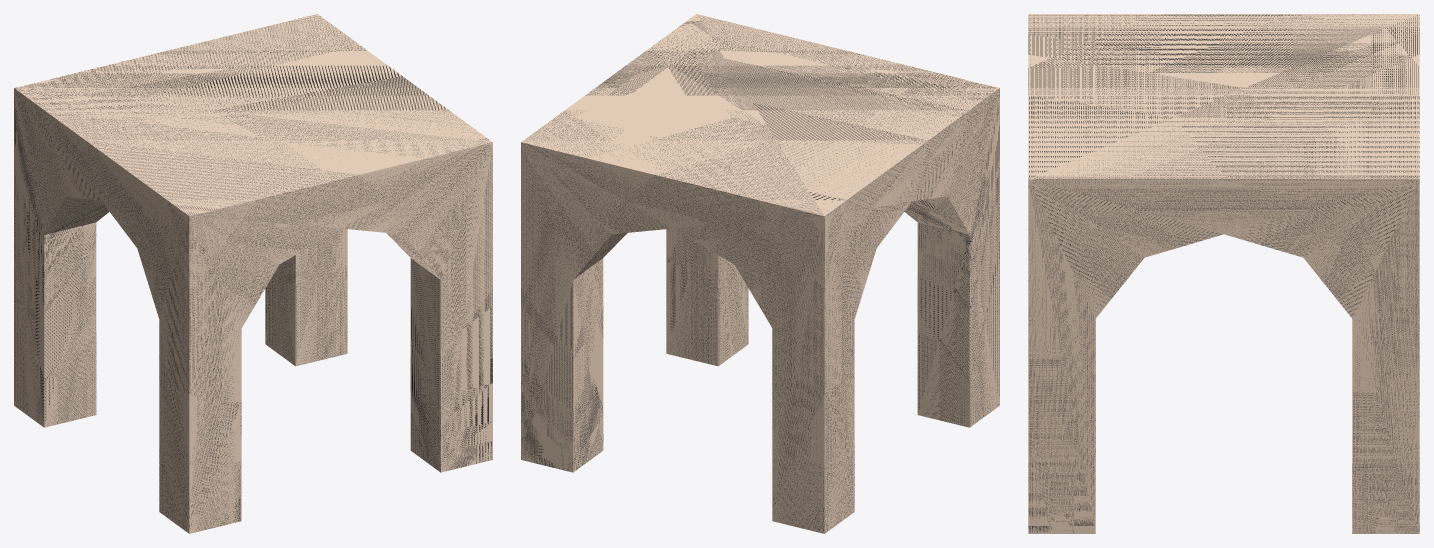
The model's file is Abstract_Castle_Block_Single_DualArch_Cream_01.fbx.
3 renders of one model, left to right at view 1: azimuth 30°, elevation 25°; view 2: azimuth 150°, elevation 25°; view 3: azimuth 270°, elevation 25°, orthographic. The views are drawn at different scales.
Visible parts, largest first — view 1: Model; view 2: Model; view 3: Model.
Part boxes in pixels (<box>): Model: <box>14,14,492,533</box>; Model: <box>521,14,999,533</box>; Model: <box>1028,14,1419,533</box>.
Bounding box in the file's own units: 1000 × 1000 × 1000.
